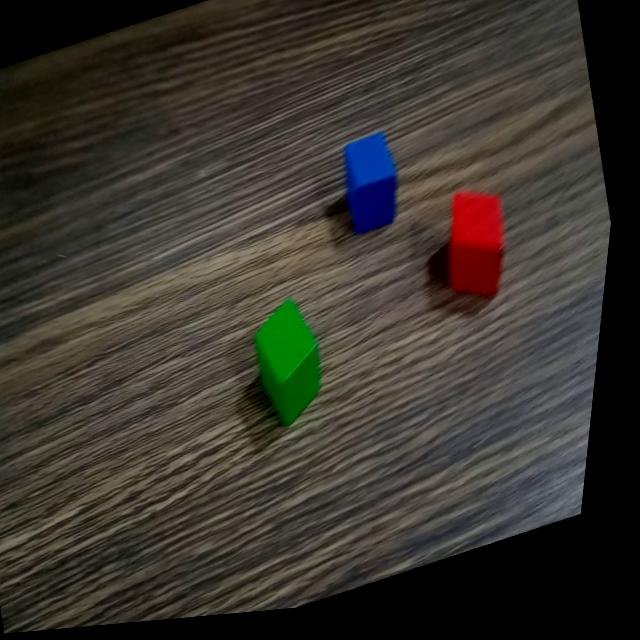cube: (244, 291, 351, 443), (430, 181, 536, 323), (330, 128, 420, 249)
